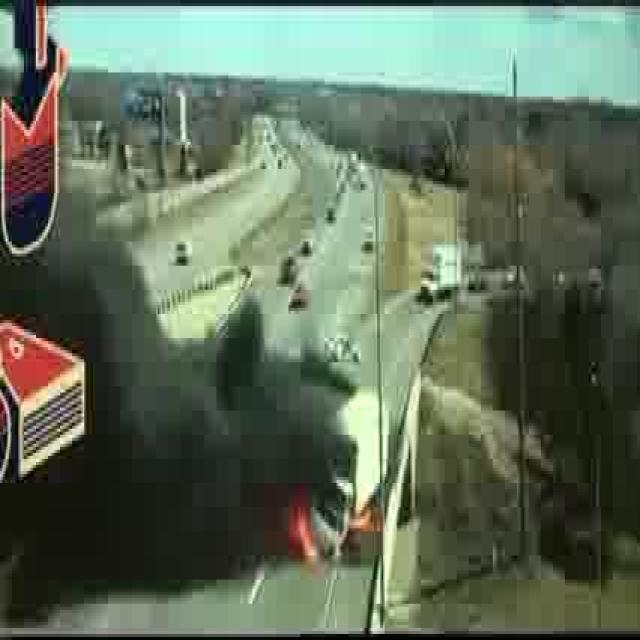multiple_accident: (276, 380, 397, 580)
